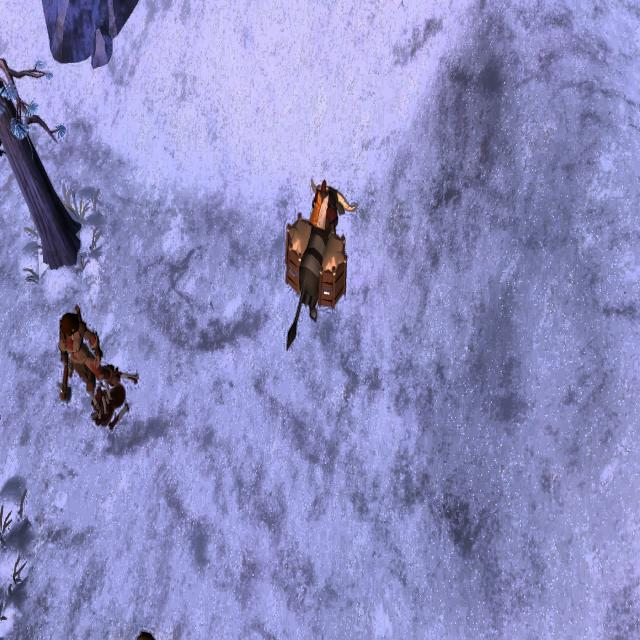enemy_factionKeeper: (56, 304, 108, 402)
